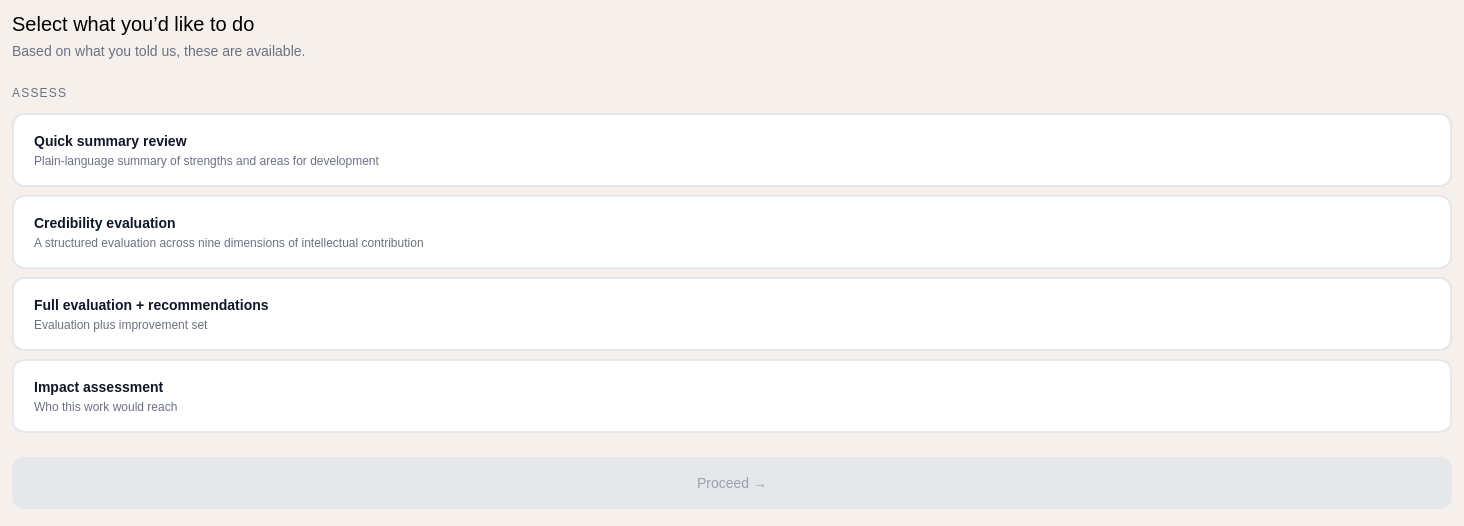
Test: RouteSelection › proceed button activates when one route selected
Click the button with test id "route-wci". click: (105, 223)
box: [12,195,1452,269]
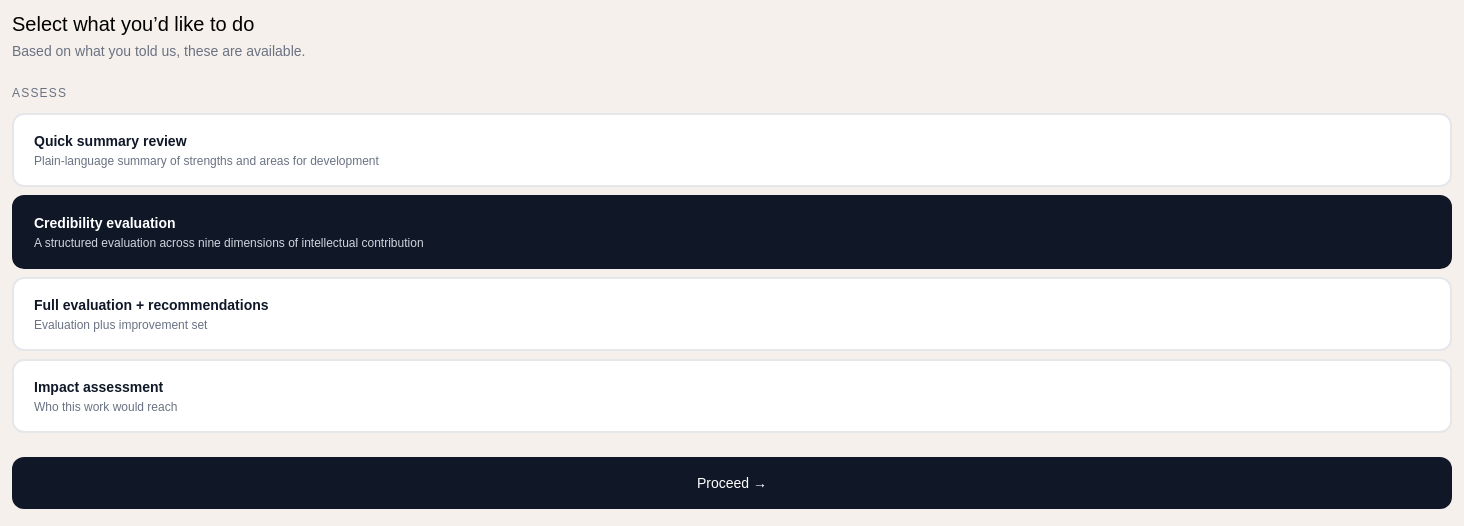
expect the button with test id "layer-3-proceed" is enabled: met, box [12,457,1452,509]
